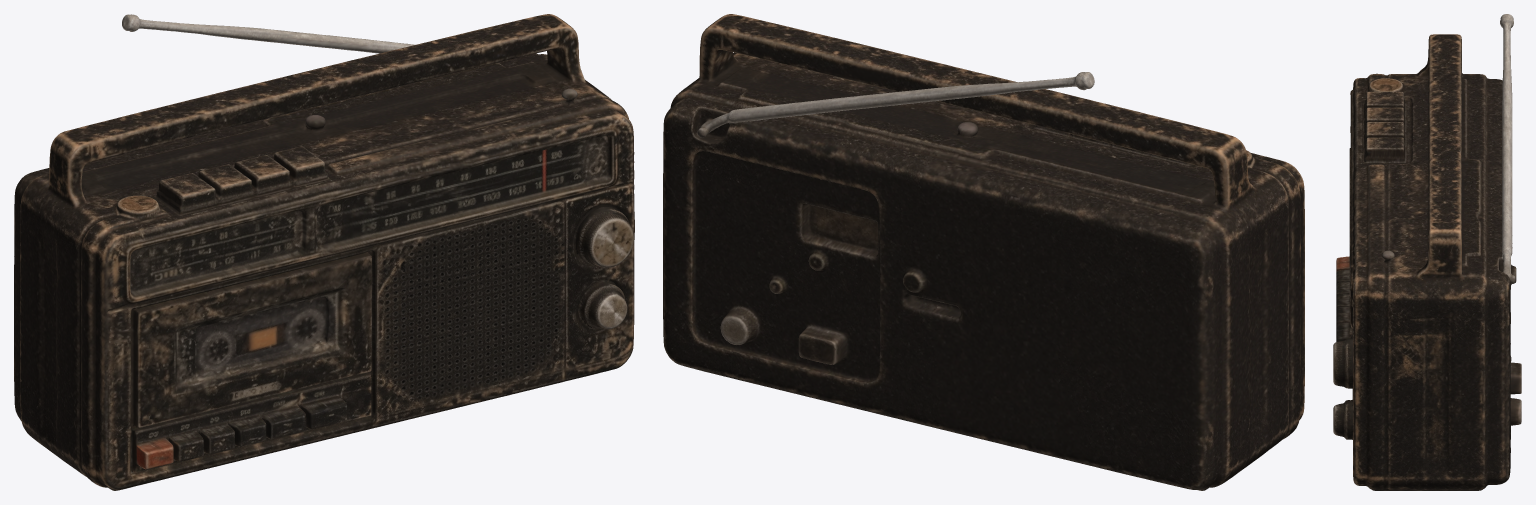
The model's file is Meshy_AI_Rusty_Vintage_Radio_1009091221_texture.fbx.
3 renders of one model, left to right at view 1: azimuth 30°, elevation 25°; view 2: azimuth 150°, elevation 25°; view 3: azimuth 270°, elevation 25°, orthographic. The views are drawn at different scales.
Parts seen in each view (by area): view 1: Mesh_0; view 2: Mesh_0; view 3: Mesh_0.
Boxes of the visible parts, box(x1,y1,x2,y2) form: Mesh_0: box(14, 14, 634, 490); Mesh_0: box(663, 14, 1304, 490); Mesh_0: box(1333, 14, 1521, 490).
Size of the model in its own units: 190 by 131 by 69.9.
1 material, 1 textured.
